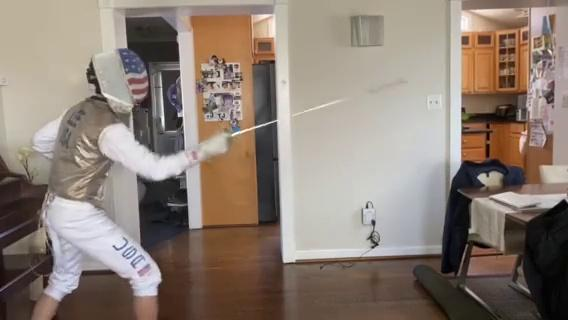blade-guard: (219, 128, 240, 147)
blade-tip: (362, 80, 409, 95)
fencing-blade: (214, 78, 411, 152)
